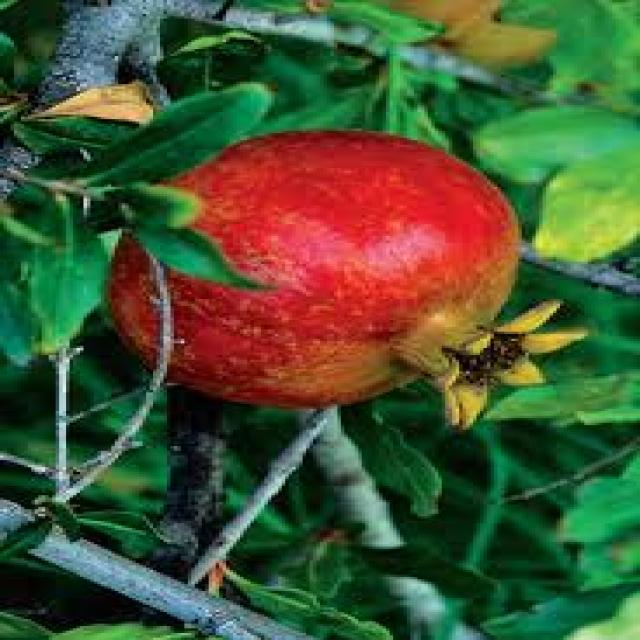Pomegranate: (102, 128, 594, 431)
